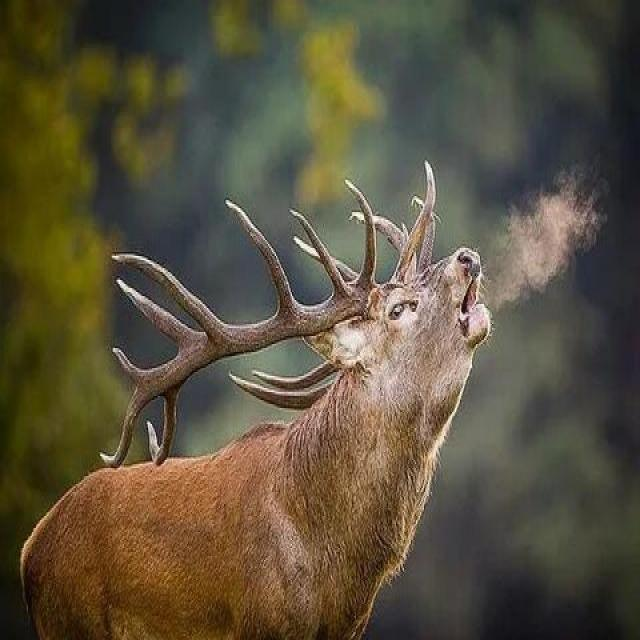deer: (112, 161, 506, 640)
